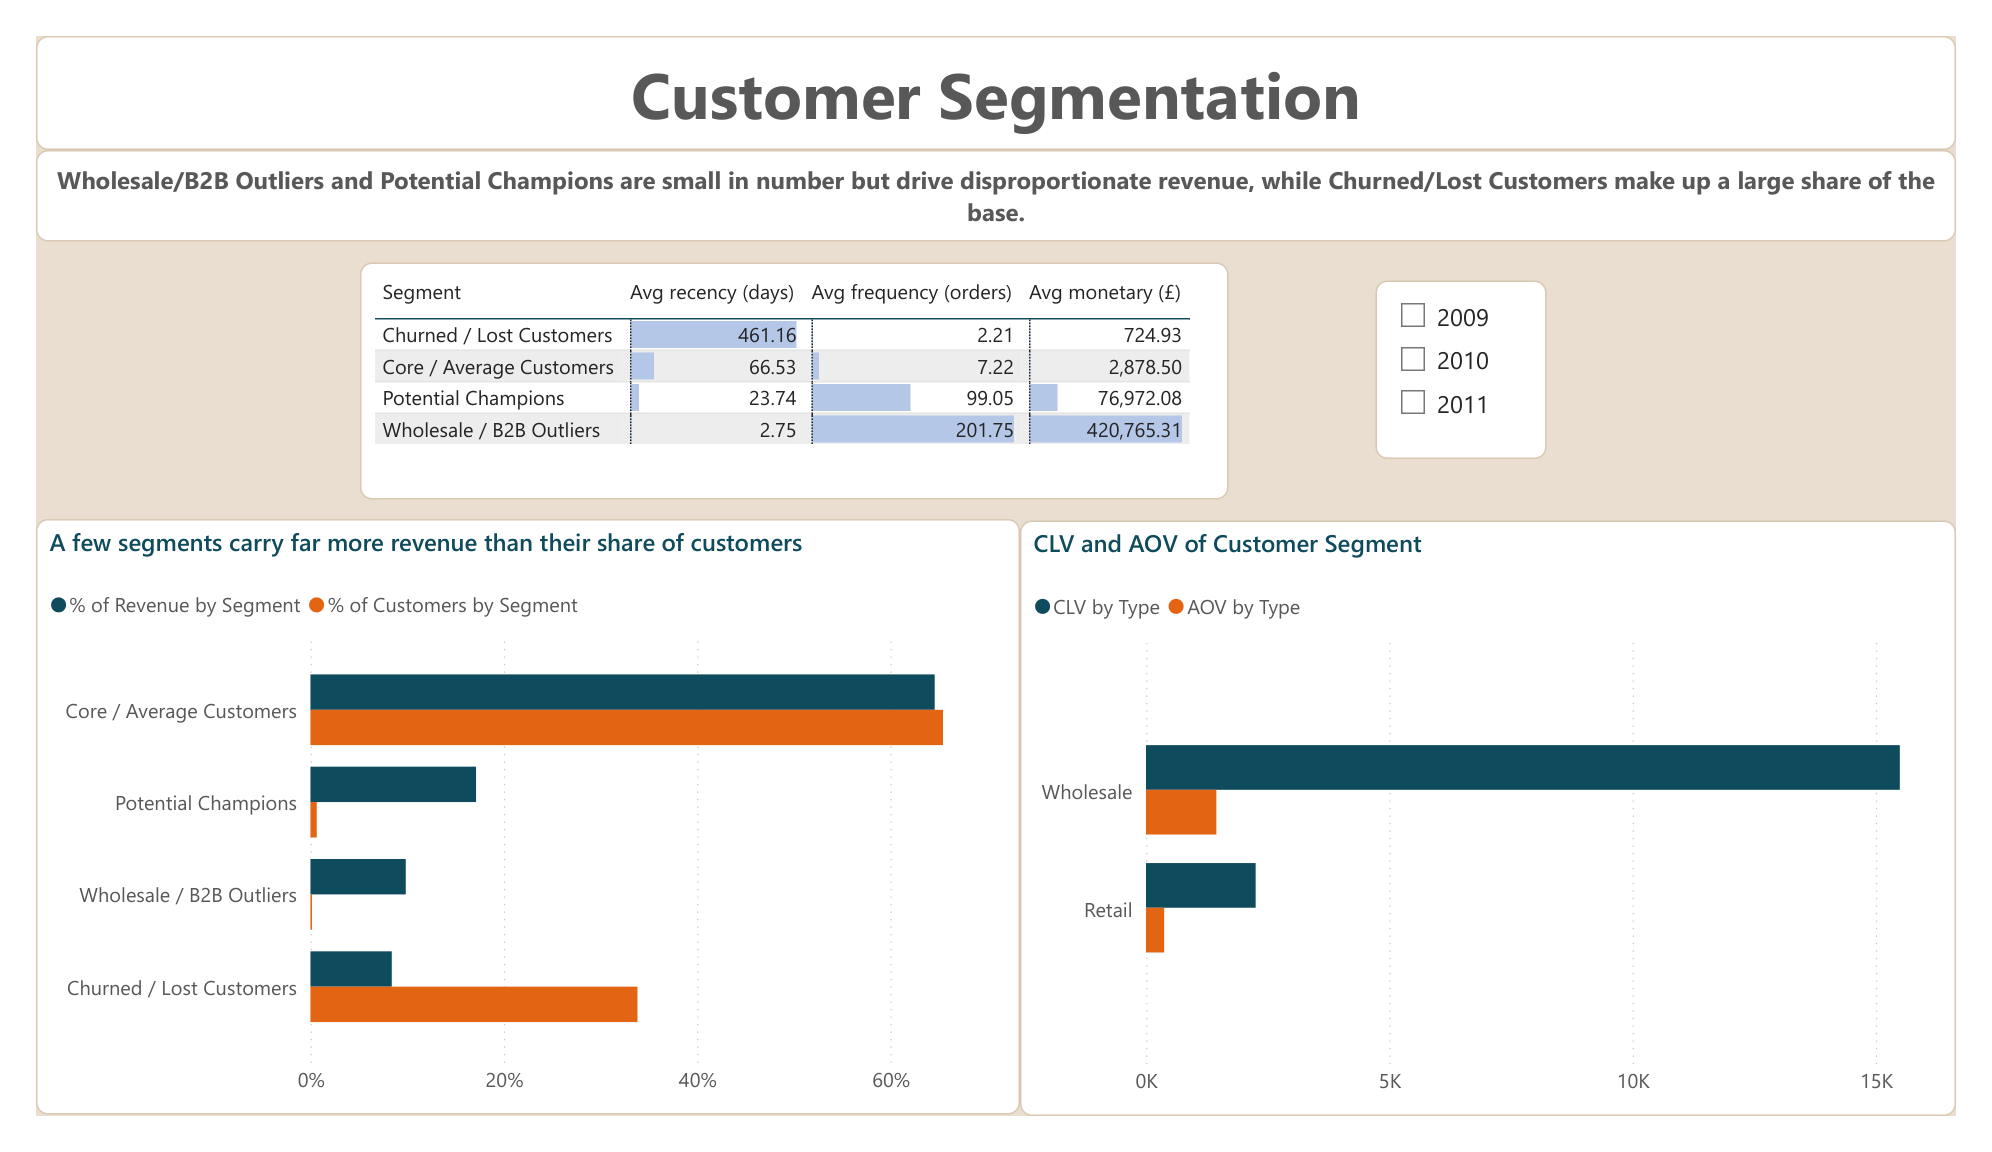

This screenshot's page, from the dashboard's own definition file:
{"tool":"powerbi","page":{"name":"Customer Segmentation","canvas":[1280,720],"ordinal":3},"visuals":[{"type":"textbox","box":[0,0,1280,75.9],"z":0},{"type":"textbox","box":[0,76.1,1279.8,61.4],"z":1},{"type":"slicer","fields":{"Values":["dim date.year"]},"box":[893.3,163.2,114.1,119],"z":2},{"type":"clusteredBarChart","title":"A few segments carry far more revenue than their share of customers","fields":{"Category":["rpt customer_segments.Segment"],"Y":["_Measures.% of Revenue by Segment","_Measures.% of Customers by Segment"]},"box":[0,322.2,655.7,396.9],"z":3},{"type":"tableEx","fields":{"Values":["rpt customer_segments.Segment","Avg(rpt customer_segments.Recency)","Avg(rpt customer_segments.Frequency)","Avg(rpt customer_segments.Monetary)"]},"box":[216,150.9,579.1,158.3],"z":4},{"type":"clusteredBarChart","title":"CLV and AOV of Customer Segment","fields":{"Category":["rpt vw_valid_sales.customer_segment"],"Y":["_Measures.CLV by Type","_Measures.AOV by Type"]},"box":[655.8,322.7,624.5,397],"z":5}]}

Visuals, with their boxes in screenshot pixels (x1, y1, x2, y2), scaled from the page's 1280x720 canvas onto the 1992x1152 screenshot:
textbox: box=[0, 0, 1991, 121]
textbox: box=[0, 122, 1991, 220]
slicer - dim date.year: box=[1390, 261, 1568, 452]
"A few segments carry far more revenue than their share of customers" clusteredBarChart: box=[0, 516, 1020, 1151]
tableEx - rpt customer_segments.Segment x Avg(rpt customer_segments.Recency): box=[336, 241, 1237, 495]
"CLV and AOV of Customer Segment" clusteredBarChart: box=[1021, 516, 1991, 1151]
